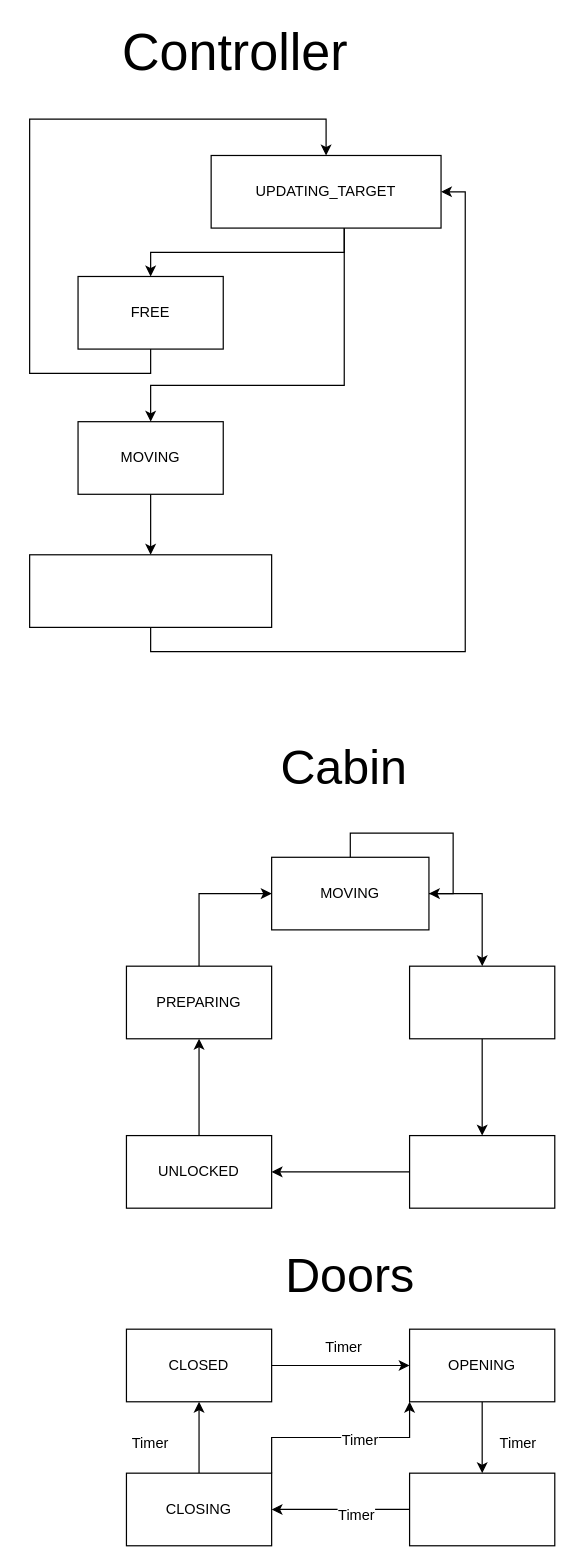
Some shapes in this 576 by 1567 pixel diagram are drawn without their labels. The shapes that lost their labels are listed below. From the top down, each one's centre as x and y in pixels, then its label:
At [150,590]: "REACHED_TARGET_FLOOR".
At [481,1002]: "STOPPED".
At [481,1171]: "LOCKED".
At [481,1509]: "OPENED".
